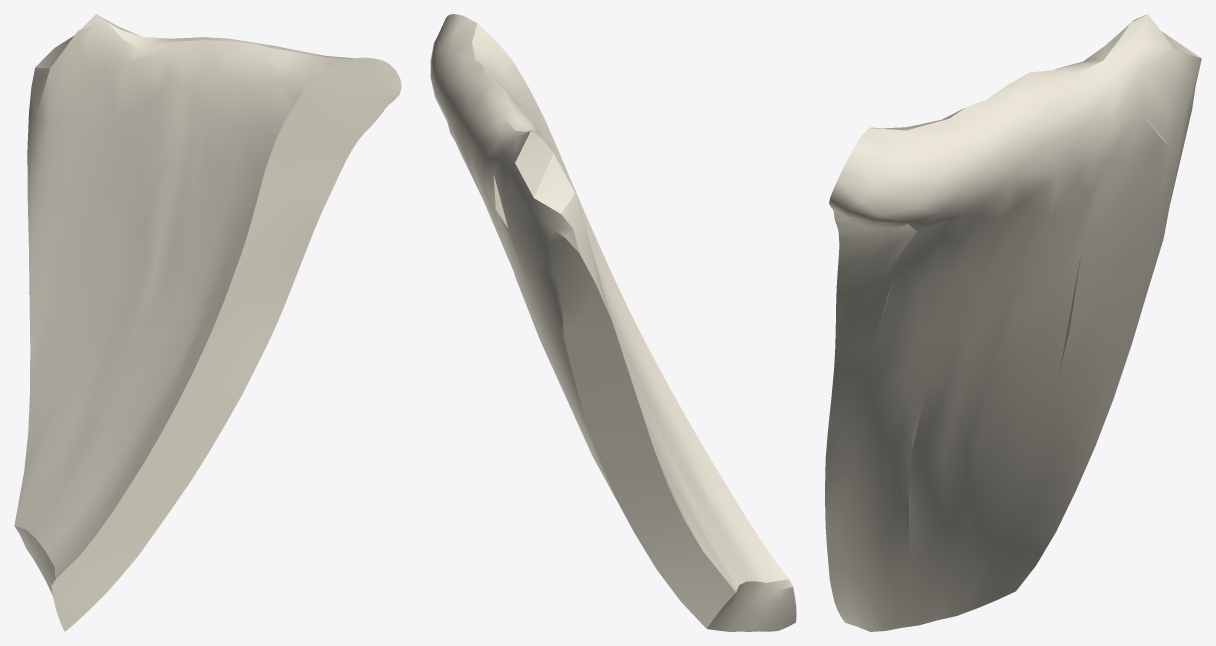
Rendered from fma26032_mm1559m.glb.
3 views of the same model, side by side, from view 1: azimuth 30°, elevation 25°; view 2: azimuth 150°, elevation 25°; view 3: azimuth 270°, elevation 25° (orthographic). The views are drawn at different scales.
Parts seen in each view (by area): view 1: FMA26032_MM1559M; view 2: FMA26032_MM1559M; view 3: FMA26032_MM1559M.
Part boxes in pixels (x1,y1,x2,y2): FMA26032_MM1559M: [14, 14, 401, 631]; FMA26032_MM1559M: [430, 14, 796, 631]; FMA26032_MM1559M: [825, 14, 1201, 631].
Size of the model in its own units: 0.0162 by 0.0232 by 0.0112.
